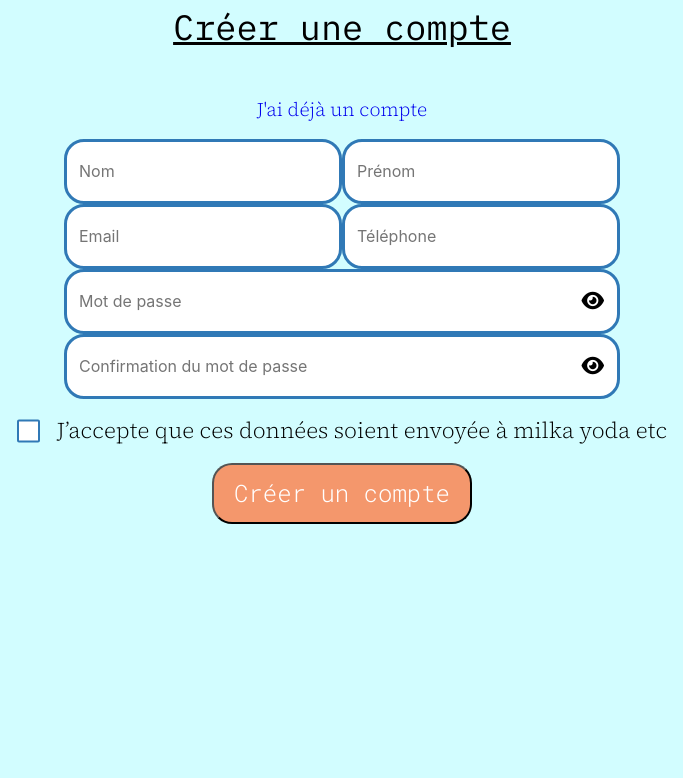
Test: RegisterSection › should not submit if form is not valide
The width and height of the screenshot is (683, 778).
Click the button "Créer un compte": (342, 494) left=212, top=463, right=472, bottom=524
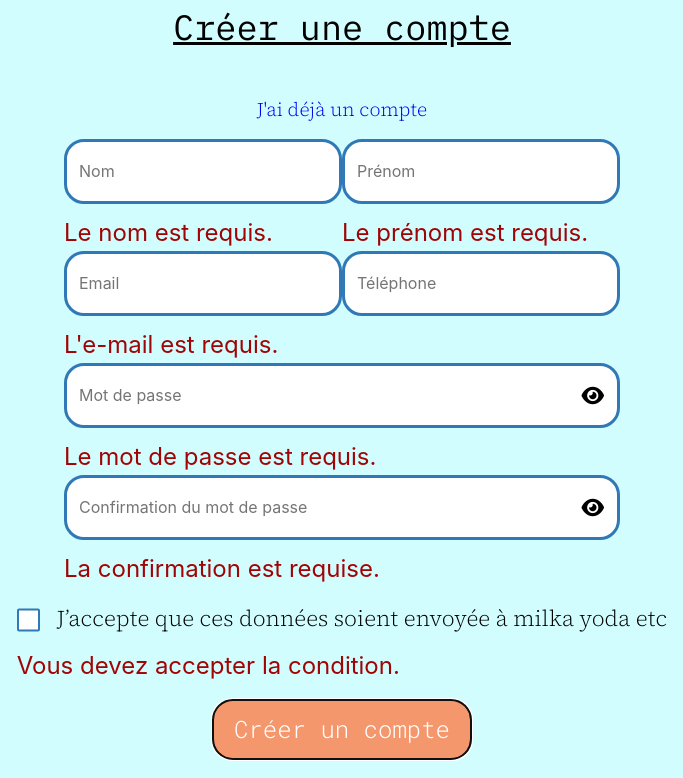
Expected: the text "Le nom est requis." is shown, left=64, top=218, right=273, bottom=247
Expected: the text "Le prénom est requis." is shown, left=342, top=214, right=620, bottom=251
Expected: the text "L'e-mail est requis." is shown, left=64, top=330, right=278, bottom=359
